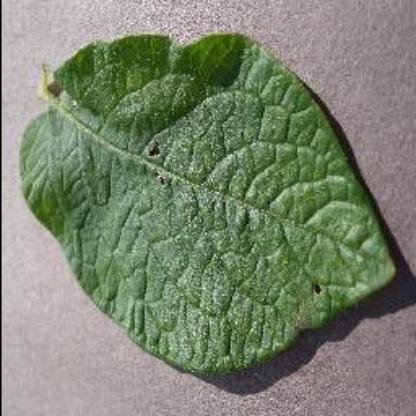Healthy-plant: (16, 33, 398, 402)
